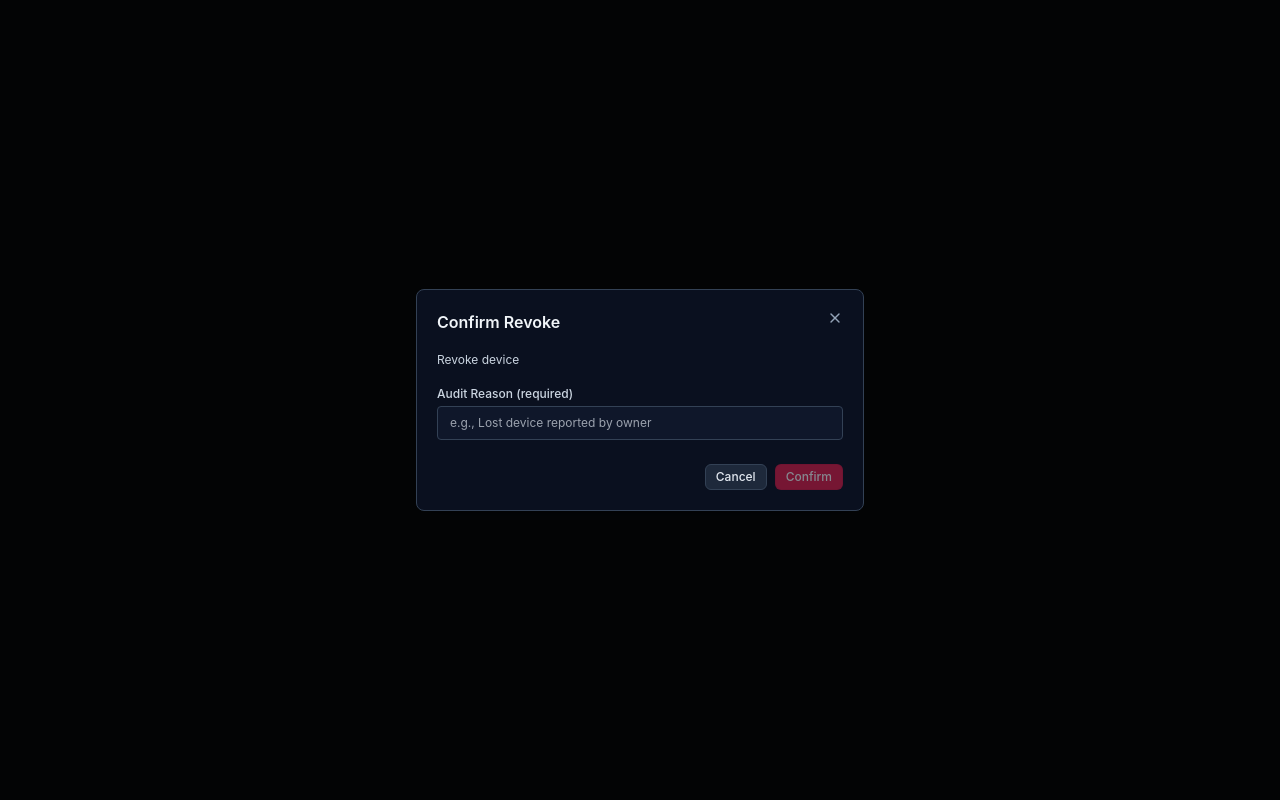
Test: Q-SHIELD Stage 10 Frontend › enforces required audit reason in ConfirmDialog
Later steps or results of the test are not shown.
Expected: the button "Confirm" is disabled, [775,464,843,490]
Type "Stolen laptop" into the field with placeholder "e.g., Lost device reported by owner" at (640, 423), box [437,406,843,440]
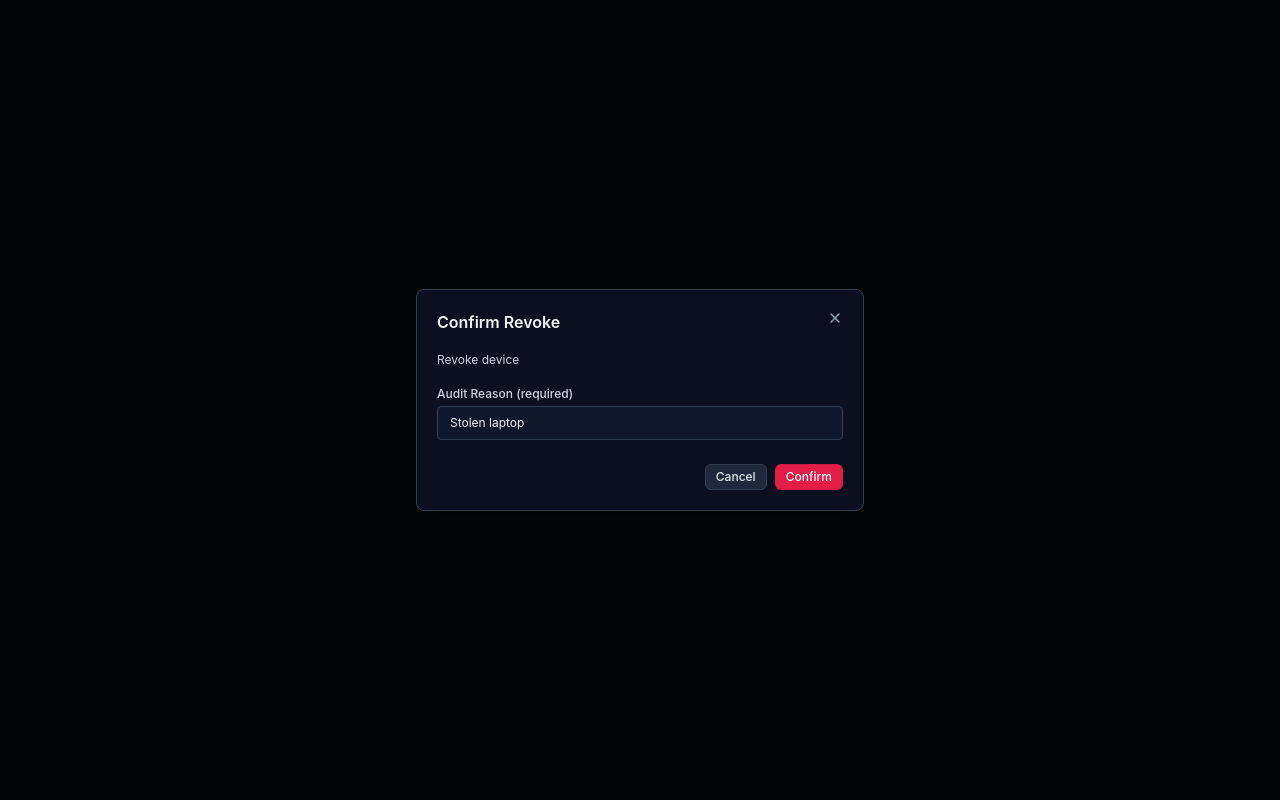
Expected: the button "Confirm" is enabled, [775,464,843,490]
